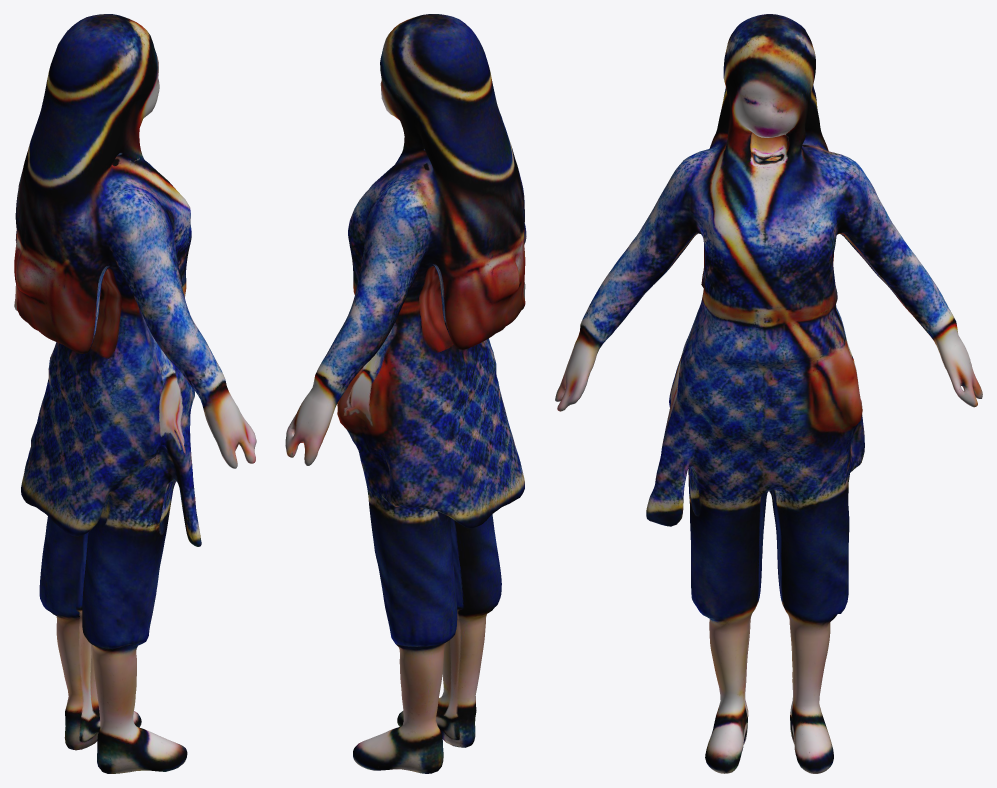
The model's file is 829498d5223d_Da_Nang_Women_s_NPC.obj.
3 renders of one model, left to right at view 1: azimuth 30°, elevation 25°; view 2: azimuth 150°, elevation 25°; view 3: azimuth 270°, elevation 25°, orthographic.
Parts seen in each view (by area): view 1: mesh; view 2: mesh; view 3: mesh.
Boxes of the visible parts, <box> form: mesh: <box>14,14,256,773</box>; mesh: <box>285,14,526,773</box>; mesh: <box>555,14,982,773</box>.
Bounding box in the file's own units: 0.2184 × 0.9997 × 0.5303.
Materials: 1 (1 with a texture image).
